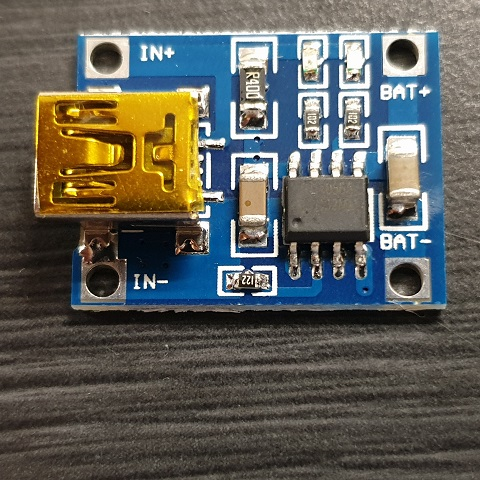batt+: (382, 36, 426, 74)
batt-: (382, 257, 436, 306)
charge: (297, 34, 329, 90)
done: (332, 34, 374, 90)
rprog: (218, 263, 277, 292)
usb: (36, 90, 200, 215)
